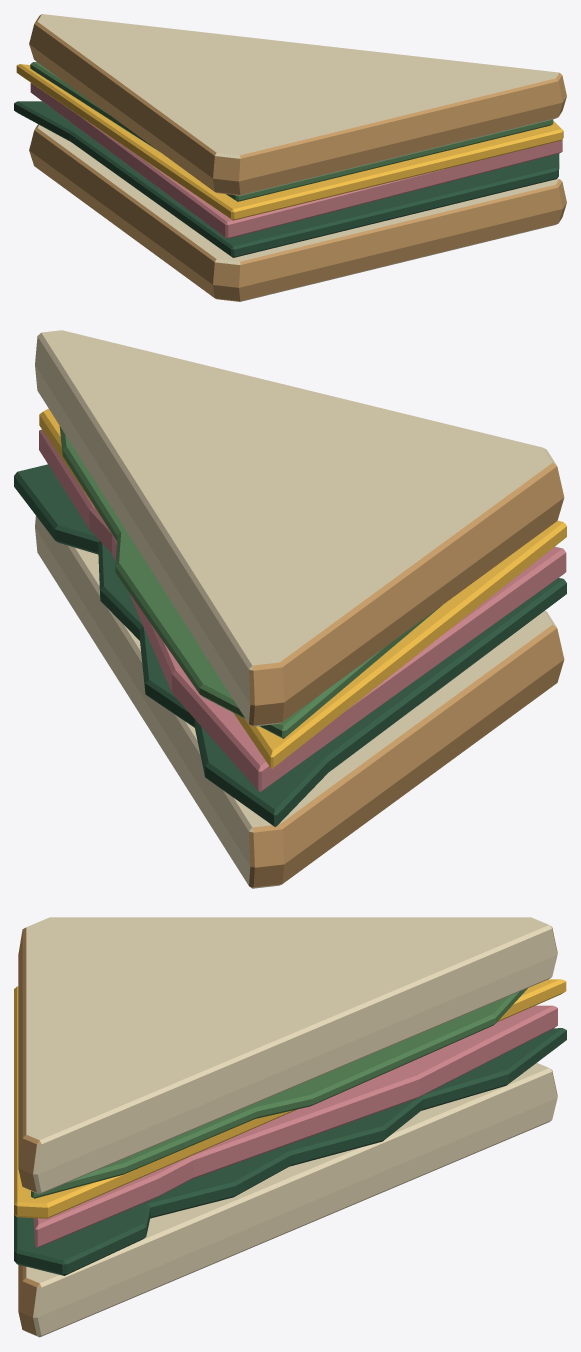
File: b16_triangular_sandwich_half.glb
The picture shows the model from 3 angles, top to bottom: view 1: azimuth 30°, elevation 25°; view 2: azimuth 150°, elevation 25°; view 3: azimuth 270°, elevation 25°; orthographic projection. The views are drawn at different scales.
Parts seen in each view (by area): view 1: b16_triangular_sandwich_half; view 2: b16_triangular_sandwich_half; view 3: b16_triangular_sandwich_half.
Boxes of the visible parts, <box> form: b16_triangular_sandwich_half: <box>14,14,566,301</box>; b16_triangular_sandwich_half: <box>14,330,566,888</box>; b16_triangular_sandwich_half: <box>14,917,566,1337</box>.
Size of the model in its own units: 0.1305 by 0.051 by 0.1296.
